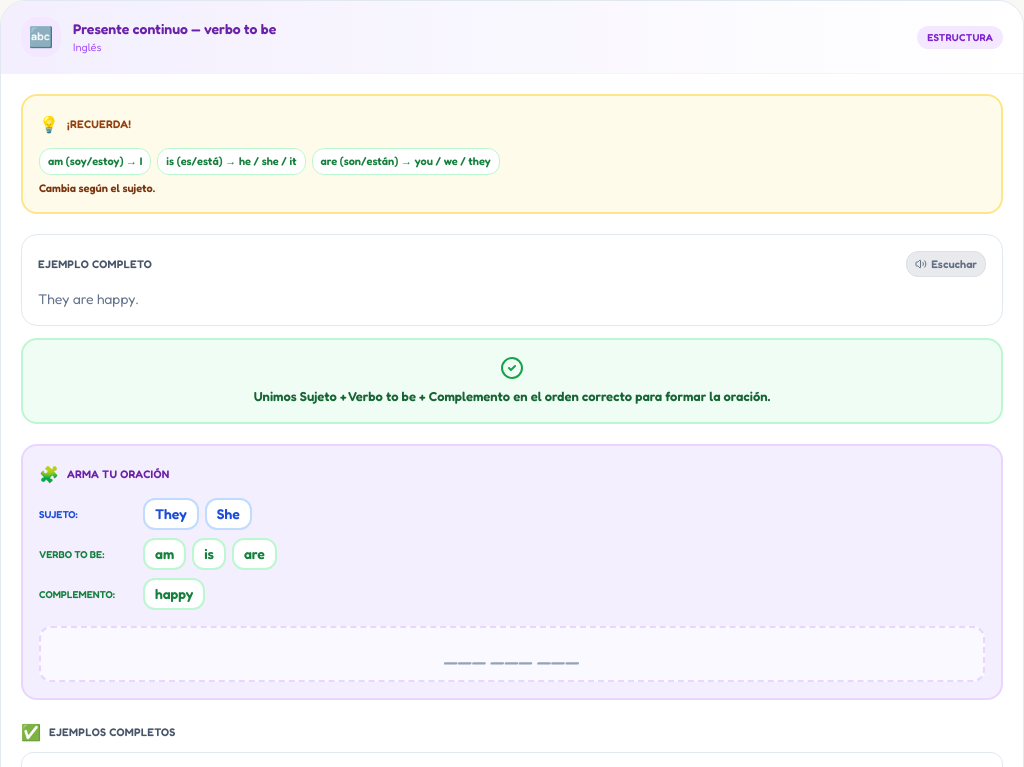
Scenario: ConstructorOracion — validación de concordancia real vía correspondeA (bug crítico) › NO valida como correcta una combinación sin concordancia ("they" + "am")
Click the button "They" at (171, 514), box left=143, top=498, right=199, bottom=530
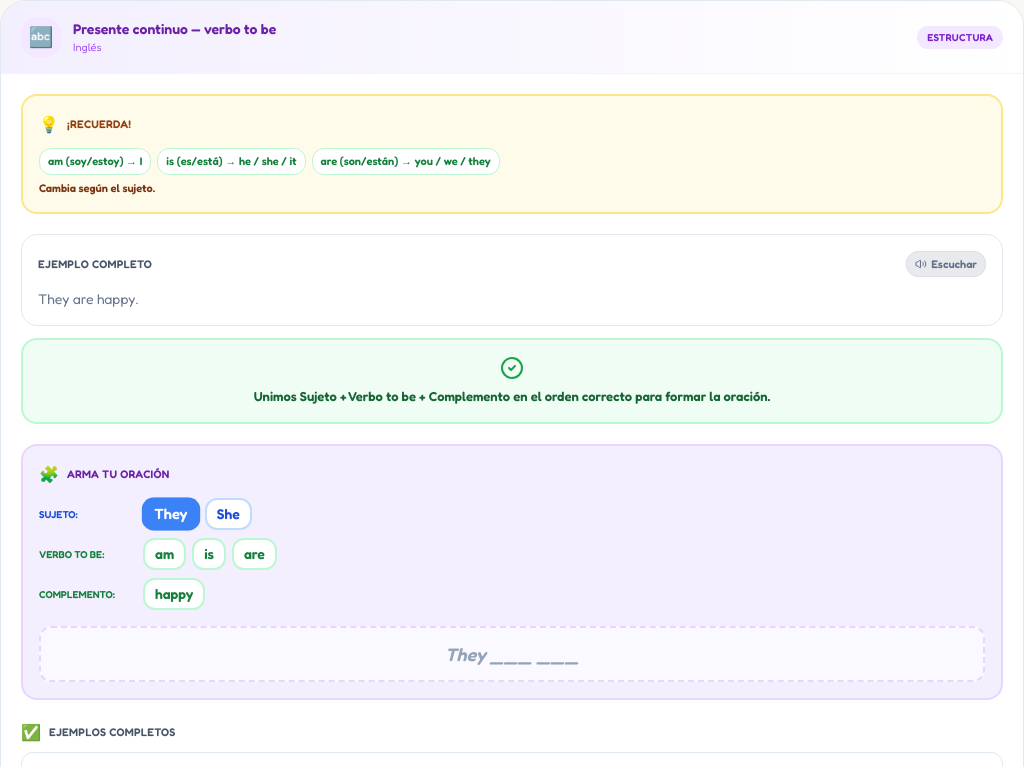
Click the button "am" at (165, 554), box left=143, top=538, right=186, bottom=570
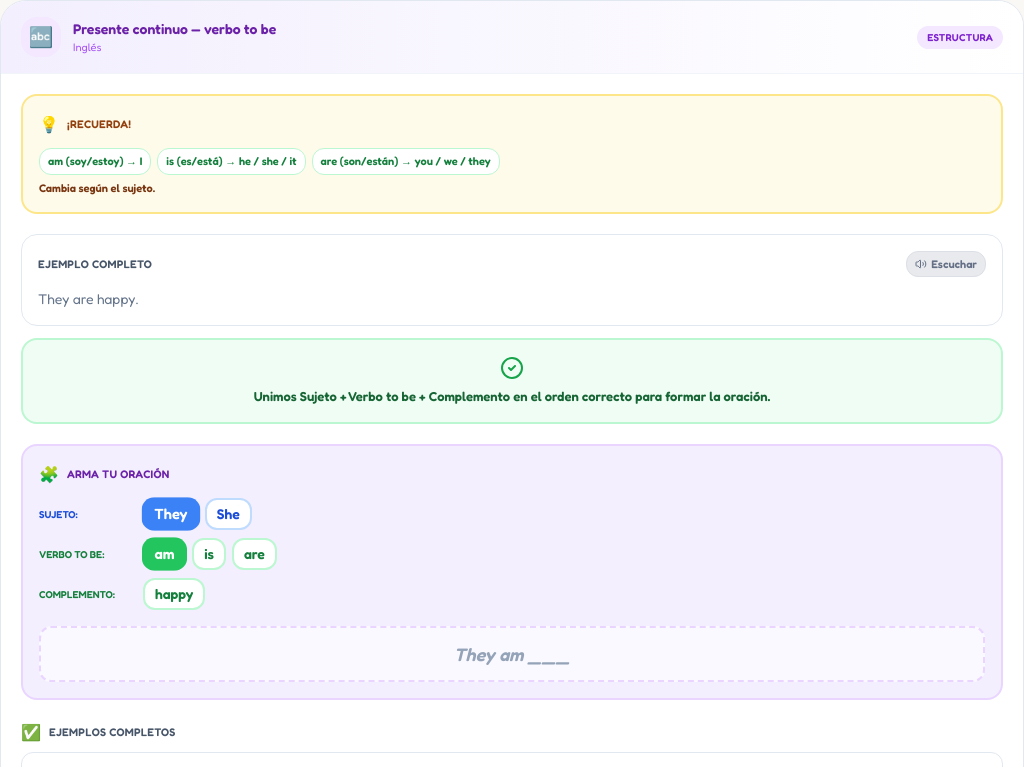
Click the button "happy" at (174, 594), box left=143, top=578, right=205, bottom=610
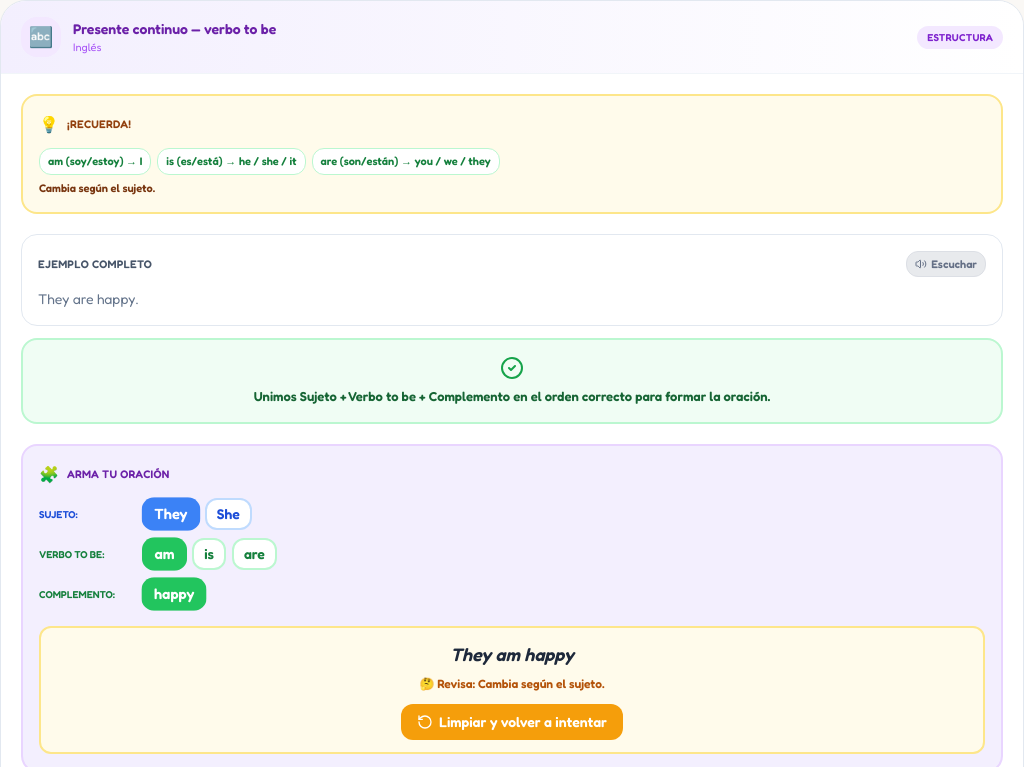
expect the text "🤔 Revisa: Cambia según el sujeto." is shown: met, box left=419, top=676, right=605, bottom=691
